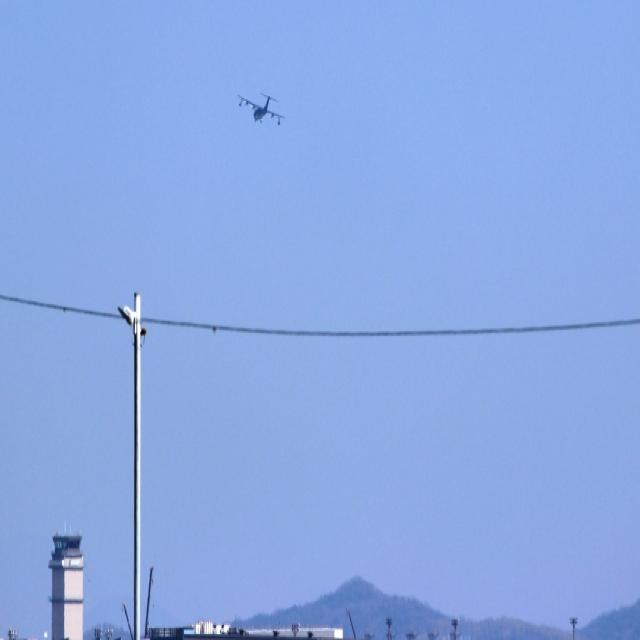MIL_Plane: (236, 90, 287, 126)
